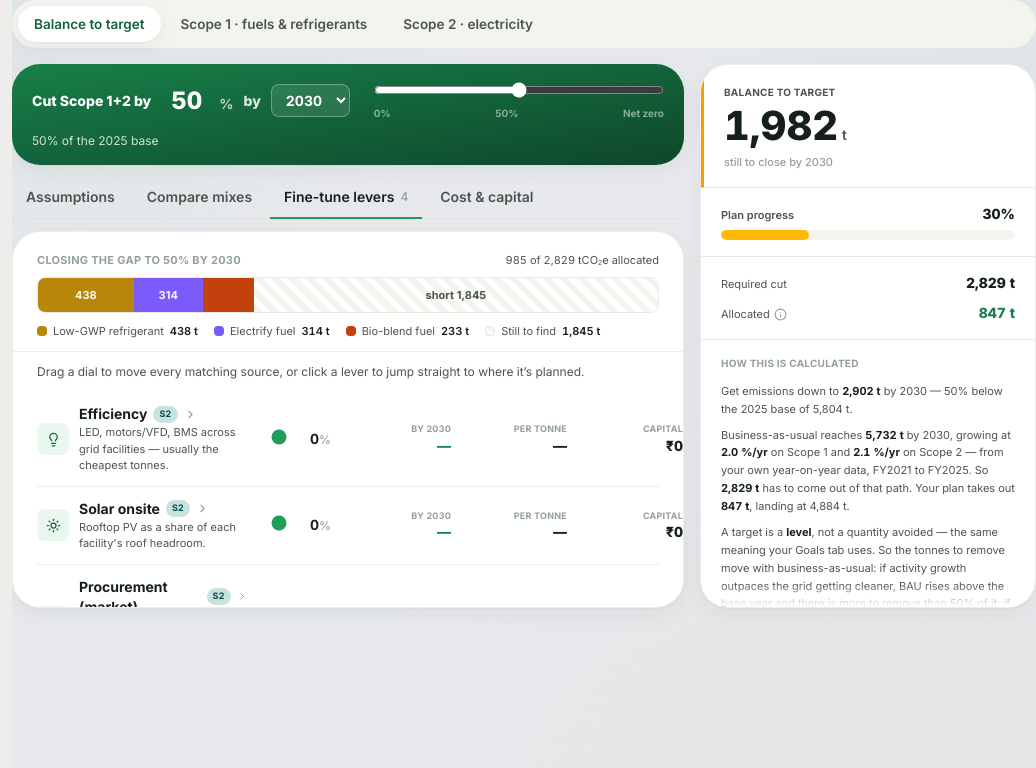
Scenario: Compare mixes states its premise › reflects the ?? precedence chain: override > derived > 1
The image size is (1036, 768).
Click the tab "Compare mixes" at (199, 198), box top-left (133, 177), bottom-right (266, 219)
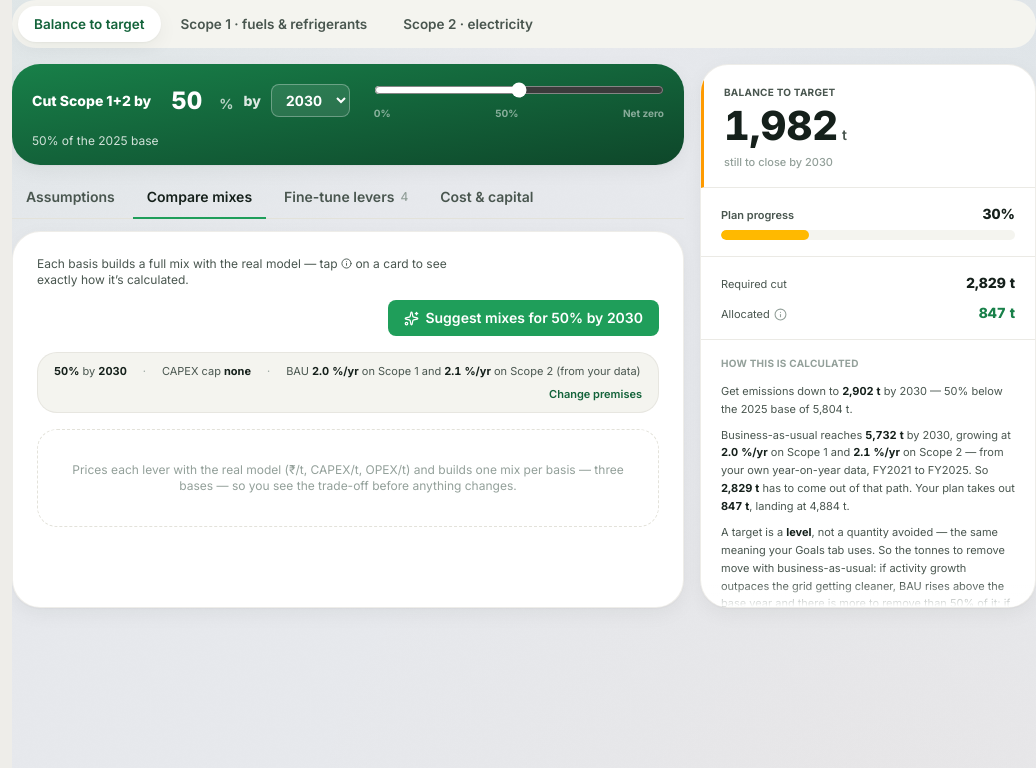
Expected: the element with test id "premise-strip" shows "(from your data)", top-left (553, 364), bottom-right (641, 378)
# Set a distinctive override value that no derived rate would coincidentally equal.
Click the tab "Assumptions" at (70, 198), box top-left (12, 177), bottom-right (129, 219)
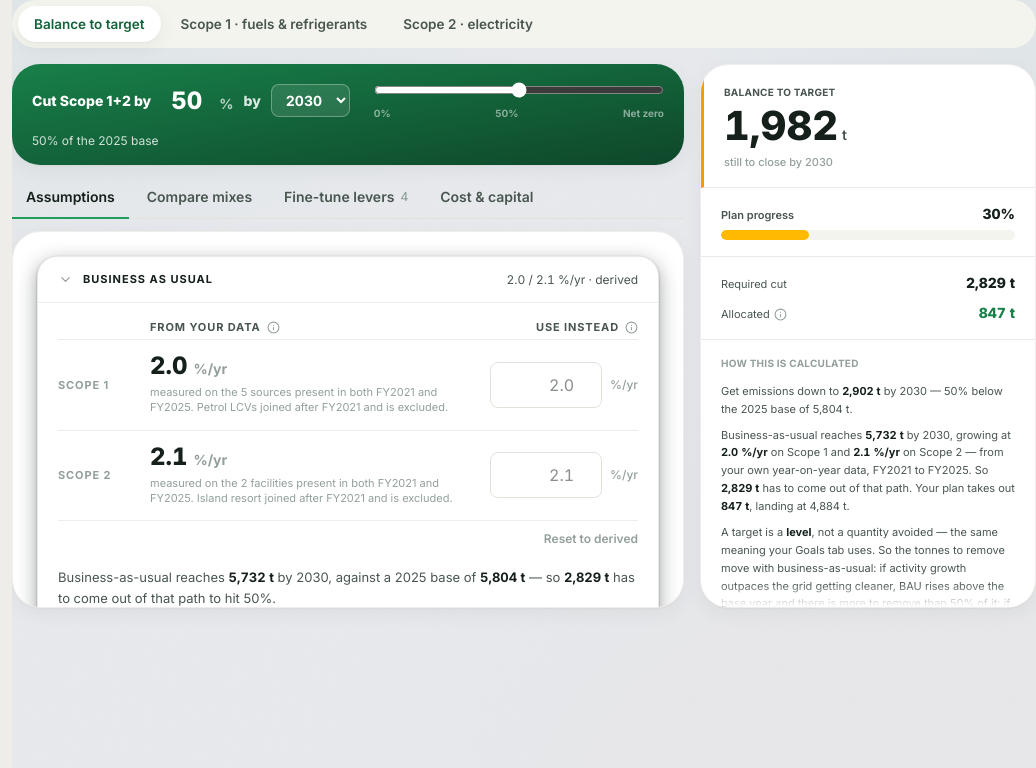
# Both scopes, so one rate honestly annotates the combined figure.
Type "7.3" into the number field named "Scope 1 BAU growth override" at (546, 385), box top-left (490, 362), bottom-right (602, 408)
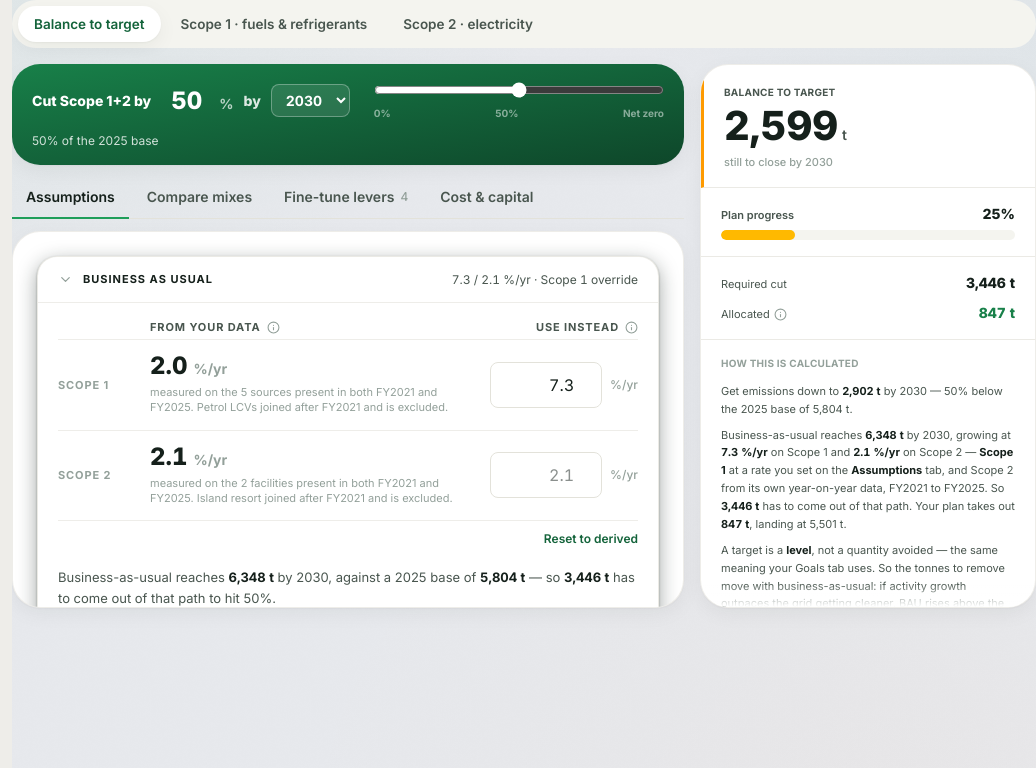
Type "7.3" into the number field named "Scope 2 BAU growth override" at (546, 475), box top-left (490, 452), bottom-right (602, 498)
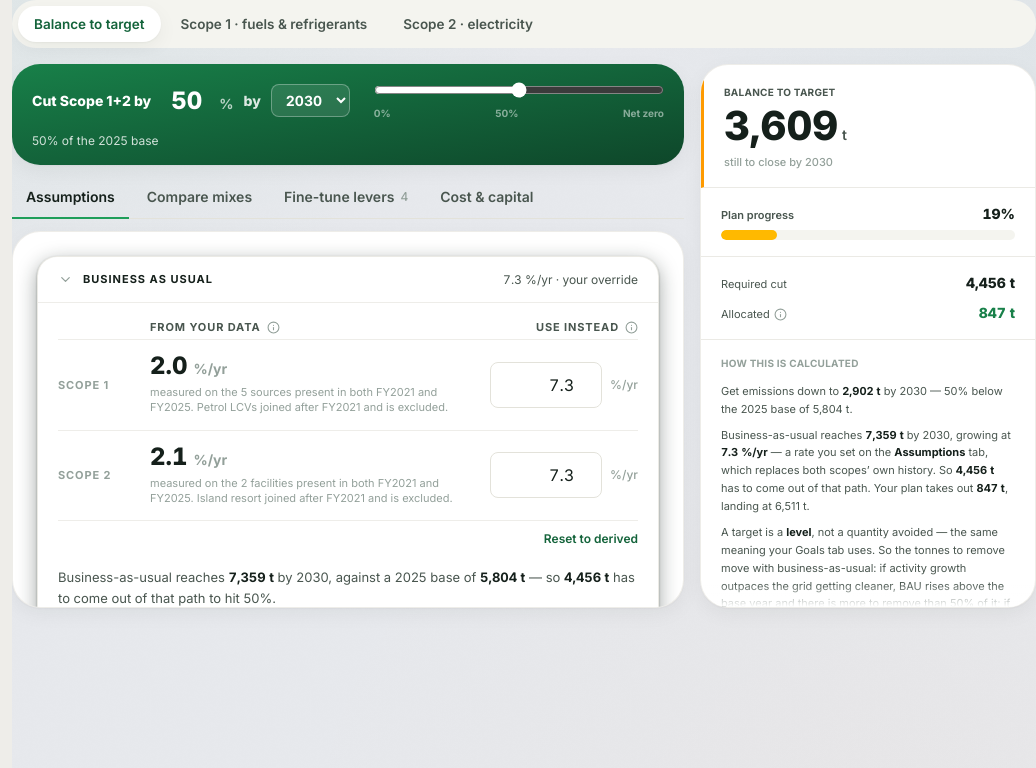
# Return to Compare mixes and verify the override is now displayed.
Click the tab "Compare mixes" at (199, 198), box top-left (133, 177), bottom-right (266, 219)
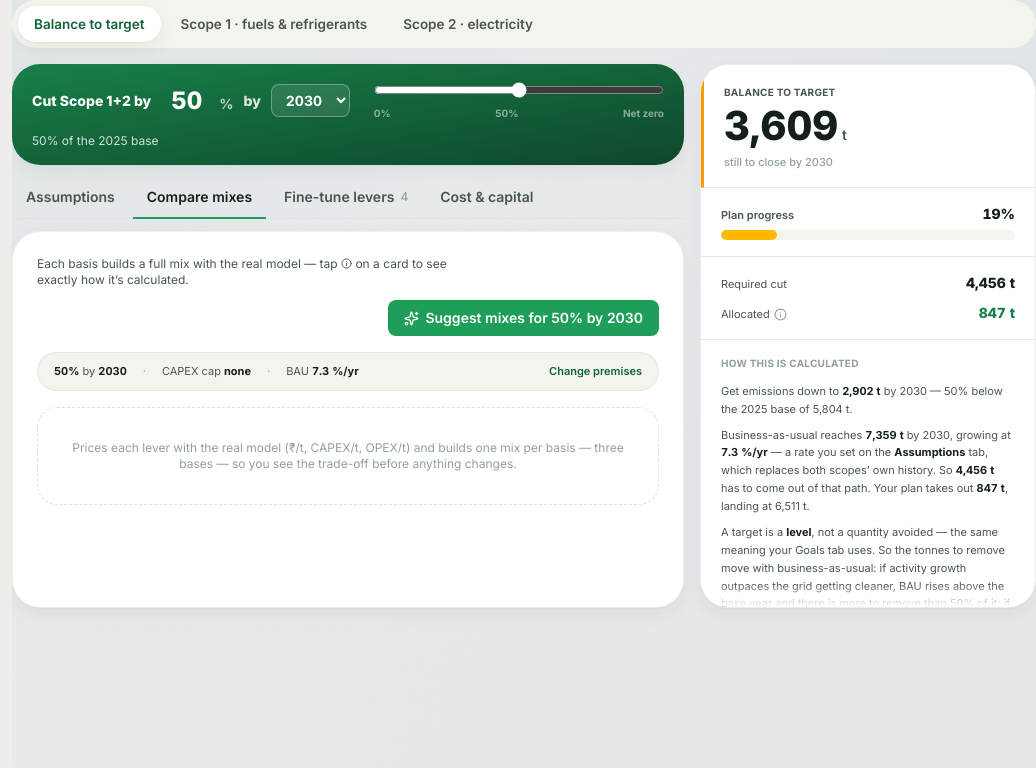
Expected: the element with test id "premise-strip" shows "7.3", top-left (312, 364), bottom-right (329, 378)
Expected: the element with test id "premise-strip" no longer shows "(from your data)"
